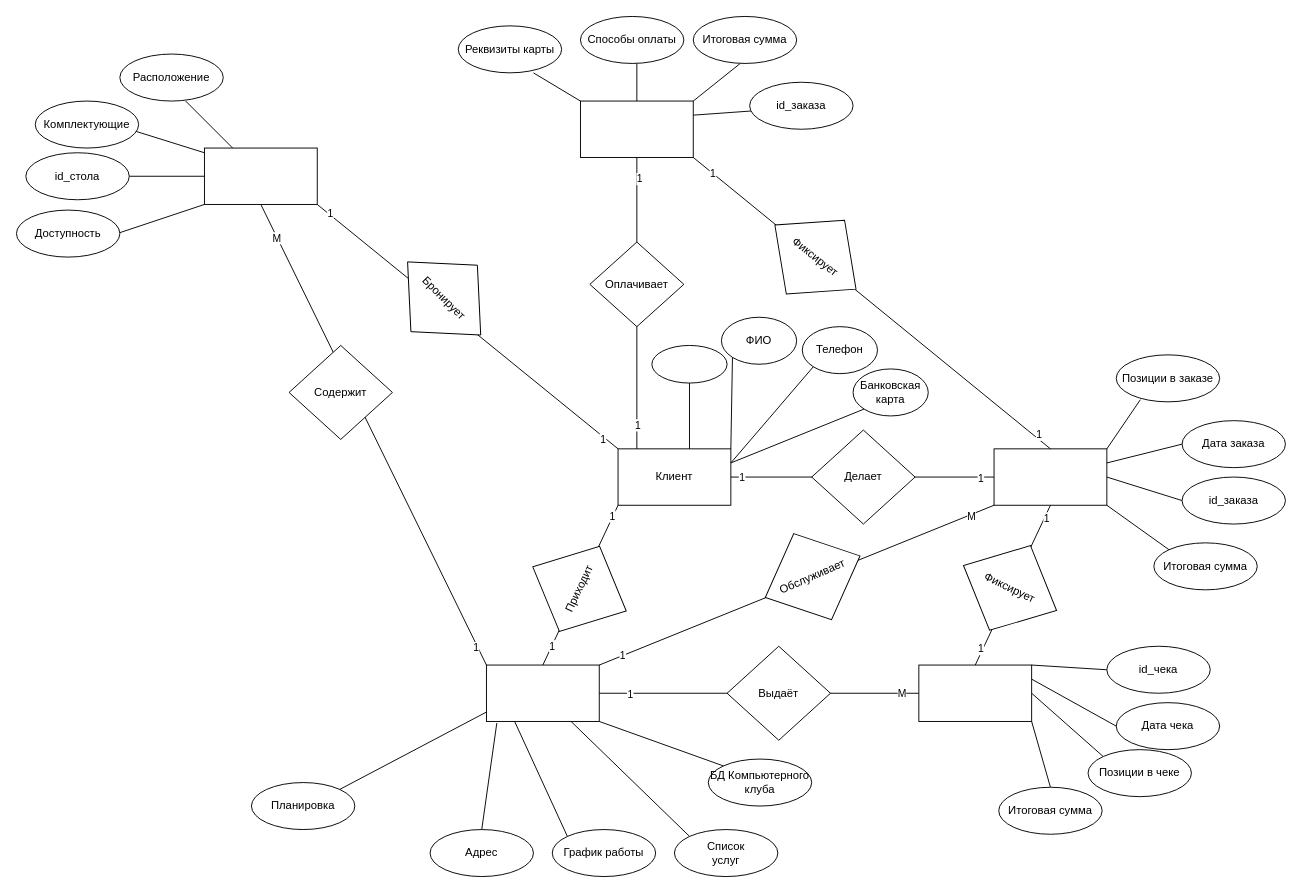
Some shapes in this 1302 by 893 pixel diagram are drawn without their labels. Here are the shapes that lost their labels. From the top down, the centre of each, then its label:
pixel 636 128: Платёжная система
pixel 260 175: Стол
pixel 689 364: Бонусные баллы
pixel 1050 476: Заказ
pixel 542 692: Компьютерный клуб
pixel 975 692: Чек
